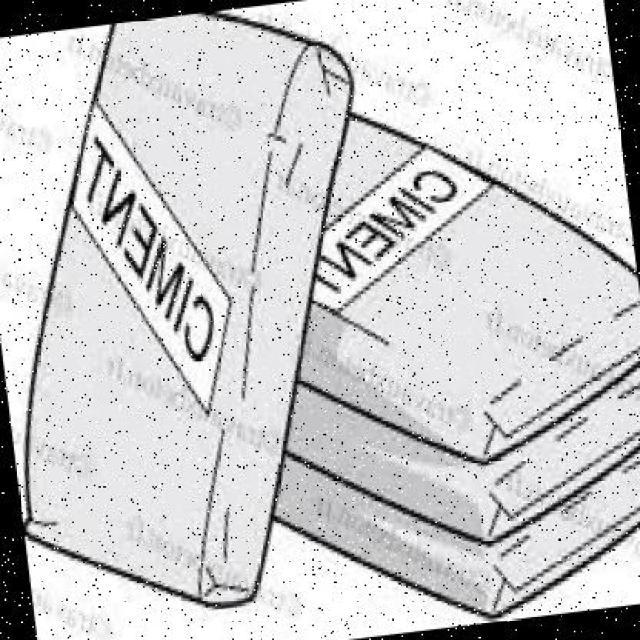gunny_bag: (23, 17, 336, 610), (311, 117, 640, 424), (485, 366, 640, 539), (493, 448, 640, 614)
